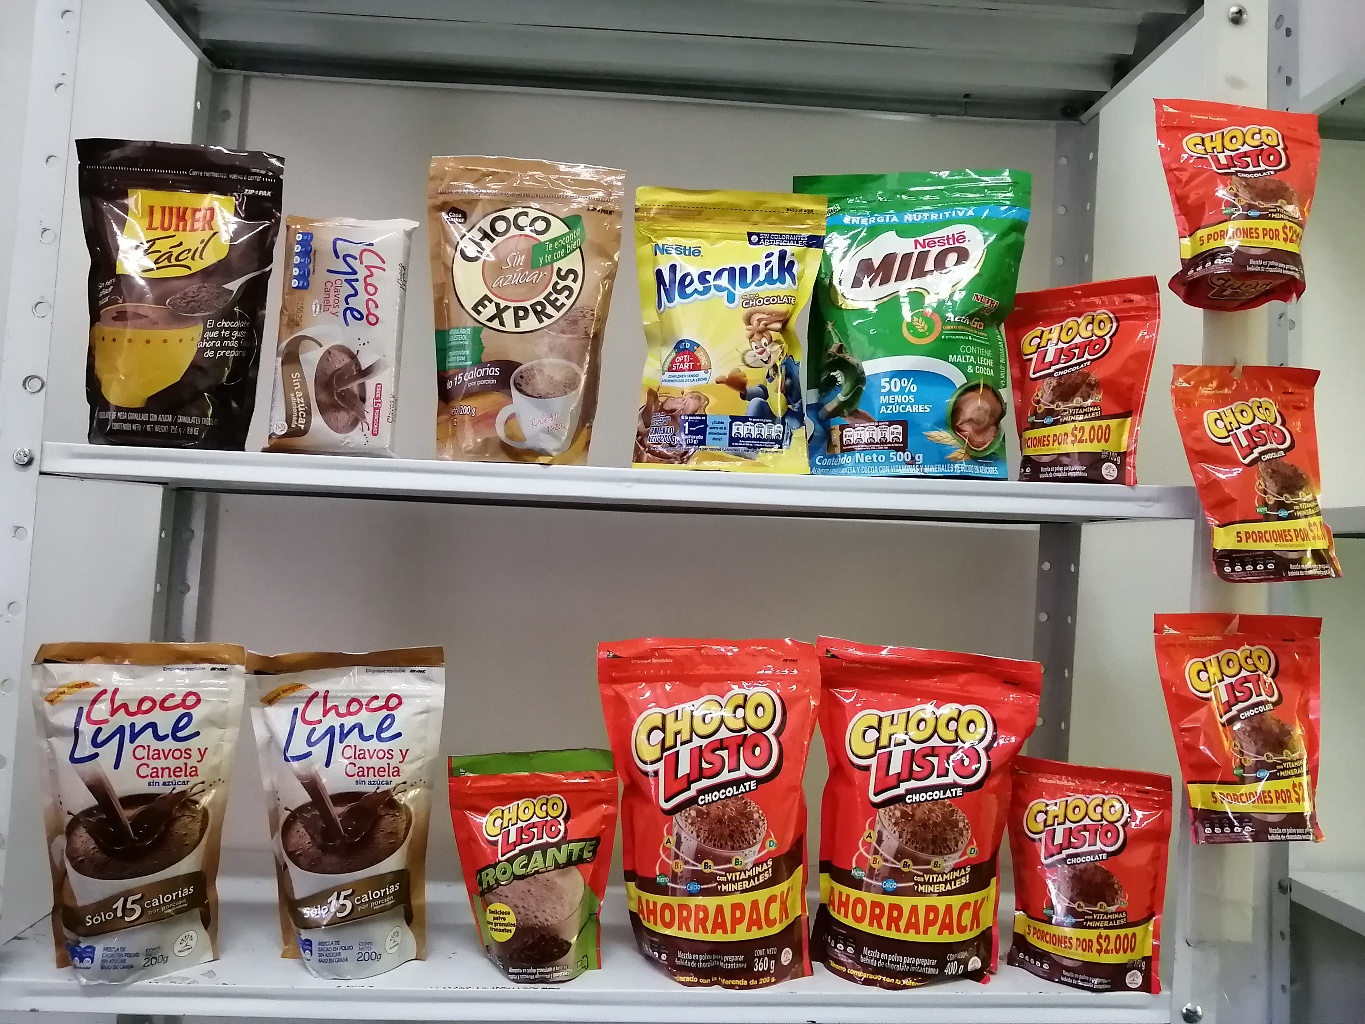COL0170102DYP10000: (445, 731, 610, 990)
COL0170103DYP10000: (1155, 81, 1318, 321)
COL0170103DYP36000: (605, 621, 817, 977)
COL0170103DYP40000: (808, 618, 1030, 992)
COL0170205DYP50000: (788, 158, 1025, 475)
COL0170303DYP20000: (629, 173, 814, 460)
